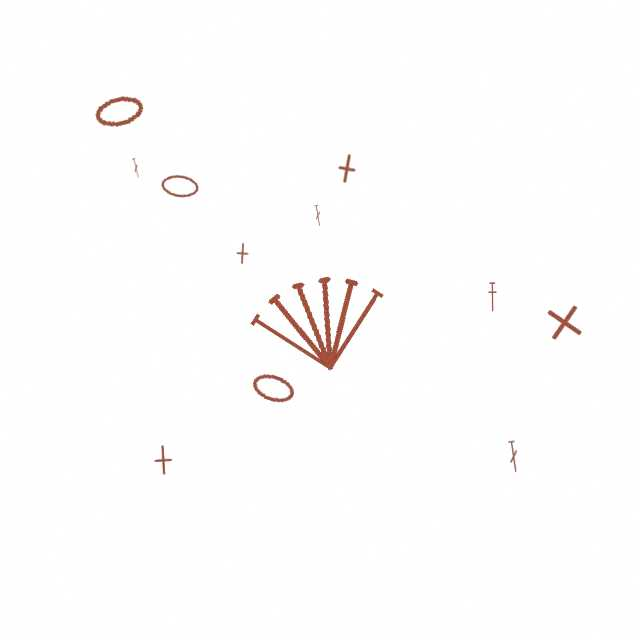chain: (92, 91, 147, 132), (249, 369, 298, 407), (160, 173, 200, 199)
double: (506, 440, 521, 473), (313, 205, 323, 226), (131, 158, 141, 178)
fan: (240, 254, 399, 386)
half_double: (487, 282, 498, 312)
single: (541, 299, 587, 345), (329, 151, 364, 186), (147, 444, 179, 476), (231, 242, 254, 265)
